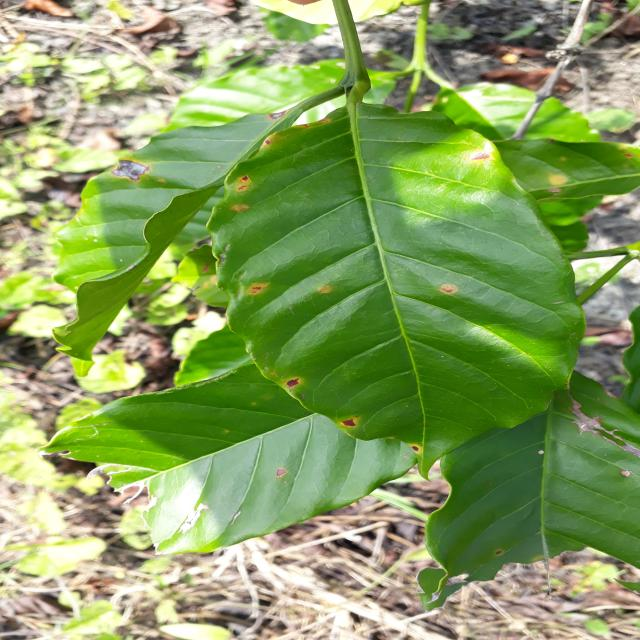Enfermedad-Roya: (204, 96, 587, 478)
